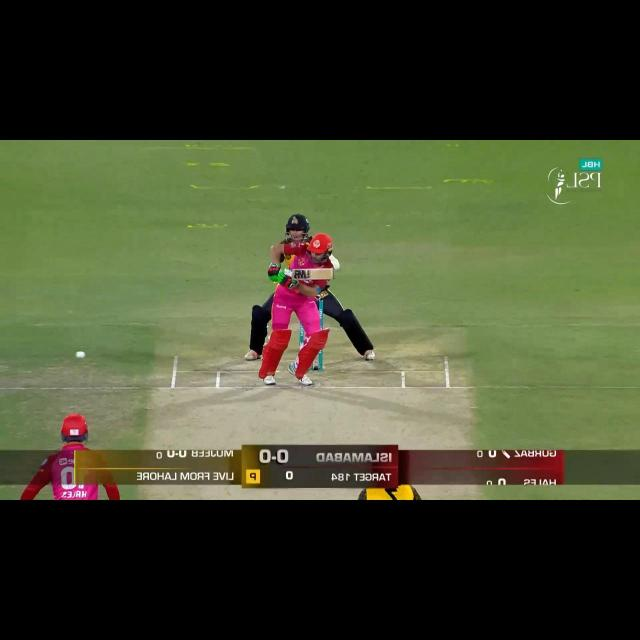bat: (290, 268, 334, 280)
toe: (325, 268, 335, 279)
